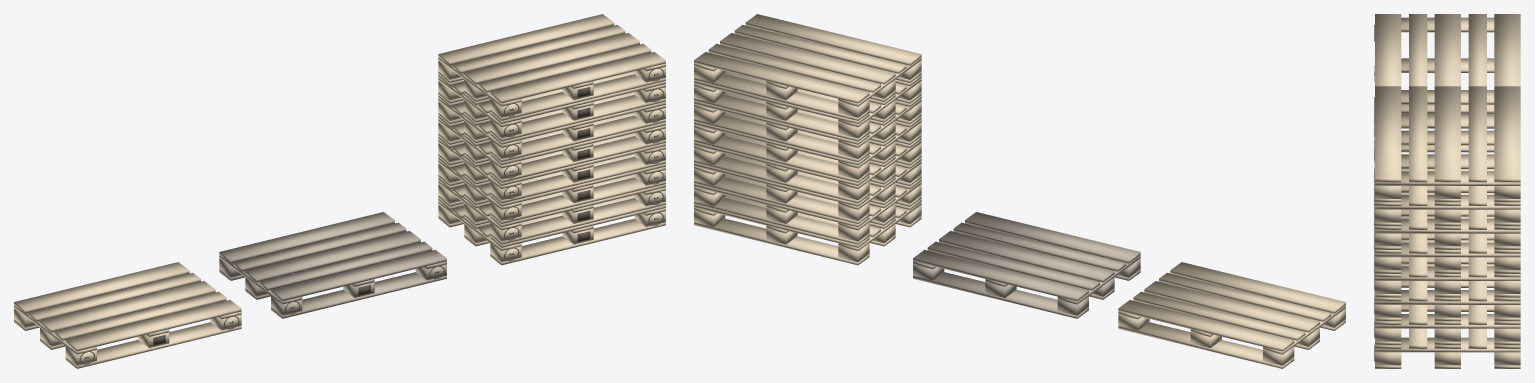
File: Pallet.fbx
3 views of the same model, side by side, from view 1: azimuth 30°, elevation 25°; view 2: azimuth 150°, elevation 25°; view 3: azimuth 270°, elevation 25° (orthographic). The views are drawn at different scales.
Visible parts, largest first — view 1: EuroPallet_Stack_8x, EuroPallet_Single_Clean, EuroPallet_Single_Weathered; view 2: EuroPallet_Stack_8x, EuroPallet_Single_Clean, EuroPallet_Single_Weathered; view 3: EuroPallet_Stack_8x, EuroPallet_Single_Clean.
Part boxes in pixels (x1,y1,x2,y2): EuroPallet_Stack_8x: (438,14,665,265); EuroPallet_Single_Clean: (14,262,241,368); EuroPallet_Single_Weathered: (219,212,446,318); EuroPallet_Stack_8x: (694,14,921,265); EuroPallet_Single_Clean: (1118,262,1345,368); EuroPallet_Single_Weathered: (913,212,1140,318); EuroPallet_Stack_8x: (1374,86,1520,368); EuroPallet_Single_Clean: (1374,14,1520,120).
Bounding box in the file's own units: 430 × 115 × 80.45.
